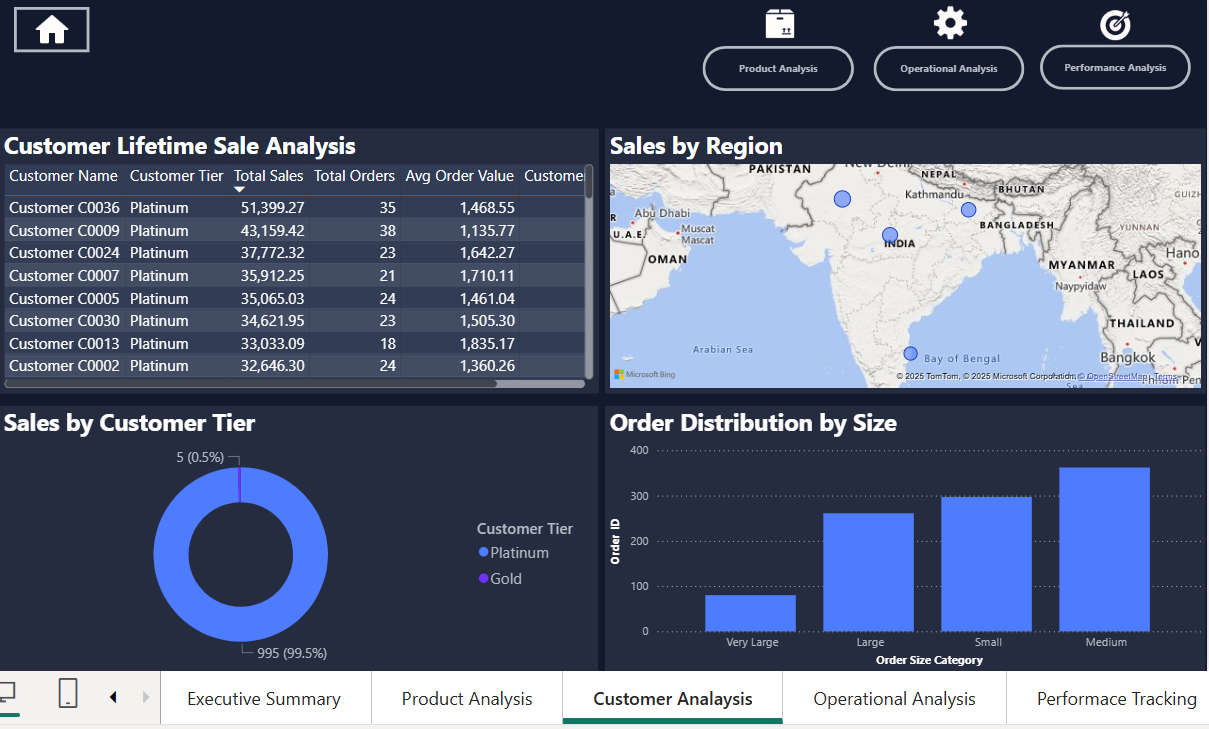

What the dashboard file says about the page in this screenshot:
{"tool":"powerbi","page":{"name":"Customer Analaysis","canvas":[1280,720],"ordinal":2},"visuals":[{"type":"donutChart","title":"Sales by Customer Tier","fields":{"Category":["Customers.Customer Tier"],"Y":["CountNonNull(Orders.Sales)"]},"box":[0,438.3,635,281.7],"z":0},{"type":"tableEx","title":"Customer Lifetime Sale Analysis","fields":{"Values":["Customers.Customer Name","Customers.Customer Tier","Customers.Total Sales","Customers.Total Orders","Customers.Avg Order Value","Customers.Customer Lifetime Days"]},"box":[0,145,635,280],"z":1000},{"type":"map","title":"Sales by Region","fields":{"Category":["Customers.Region"],"Size":["Sum(Orders.Sales)"]},"box":[643.3,145,636.7,280],"z":2000},{"type":"clusteredColumnChart","title":"Order Distribution by Size ","fields":{"Category":["Orders.Order Size Category"],"Y":["Count(Orders.Order ID)"]},"box":[643.3,438.3,636.7,281.7],"z":3000},{"type":"image","box":[16,16,80,48],"z":4000},{"type":"actionButton","box":[16,16,80,48],"z":5000},{"type":"actionButton","box":[746,57.3,160.7,47.7],"z":6000},{"type":"actionButton","box":[928,57.6,160,48],"z":8000},{"type":"actionButton","box":[1104,56,160,48],"z":9000},{"type":"image","box":[984,6.4,48,52.8],"z":10000},{"type":"image","box":[1161.6,8,44.8,54.4],"z":11000},{"type":"image","box":[804.8,9.5,46.1,47.7],"z":13000}]}

Visuals, with their boxes on the page's 1280x720 design canvas (x1, y1, x2, y2). These are canvas units, not pixel positions in the 1209x729 screenshot, which may show the page scaled, cropped or inside an application window:
"Sales by Customer Tier" donutChart: rect(0, 438, 635, 720)
"Customer Lifetime Sale Analysis" tableEx: rect(0, 145, 635, 425)
"Sales by Region" map: rect(643, 145, 1280, 425)
"Order Distribution by Size " clusteredColumnChart: rect(643, 438, 1280, 720)
image: rect(16, 16, 96, 64)
actionButton: rect(16, 16, 96, 64)
actionButton: rect(746, 57, 907, 105)
actionButton: rect(928, 58, 1088, 106)
actionButton: rect(1104, 56, 1264, 104)
image: rect(984, 6, 1032, 59)
image: rect(1162, 8, 1206, 62)
image: rect(805, 10, 851, 57)
